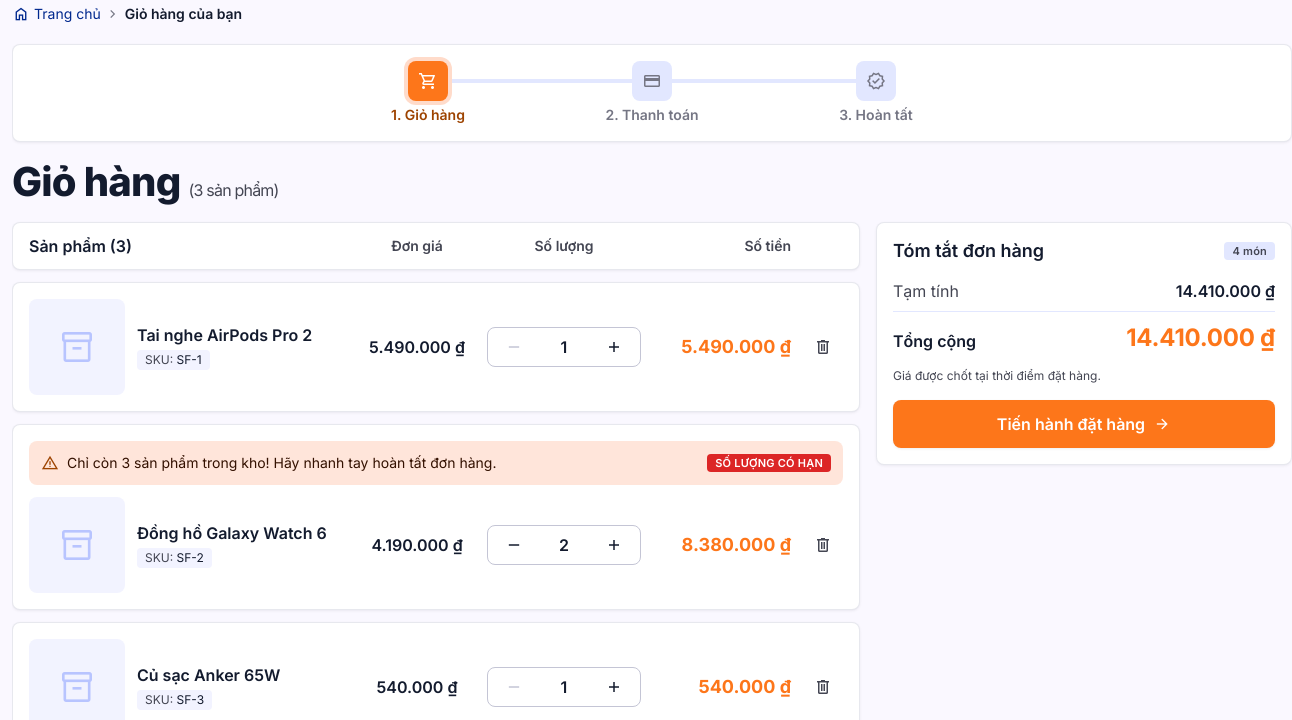
it: CartPage › nút + → PATCH số lượng mới, thành tiền và tổng cập nhật theo server
The width and height of the screenshot is (1292, 720).
Check: the link "Củ sạc Anker 65W" is shown, box [137, 665, 280, 685]
What coordinates should you click on to do the following:
click the button named "Tăng số lượng" in the row of "Củ sạc Anker 65W"
I would click on:
 (614, 687)
Its box is [592, 672, 636, 702].
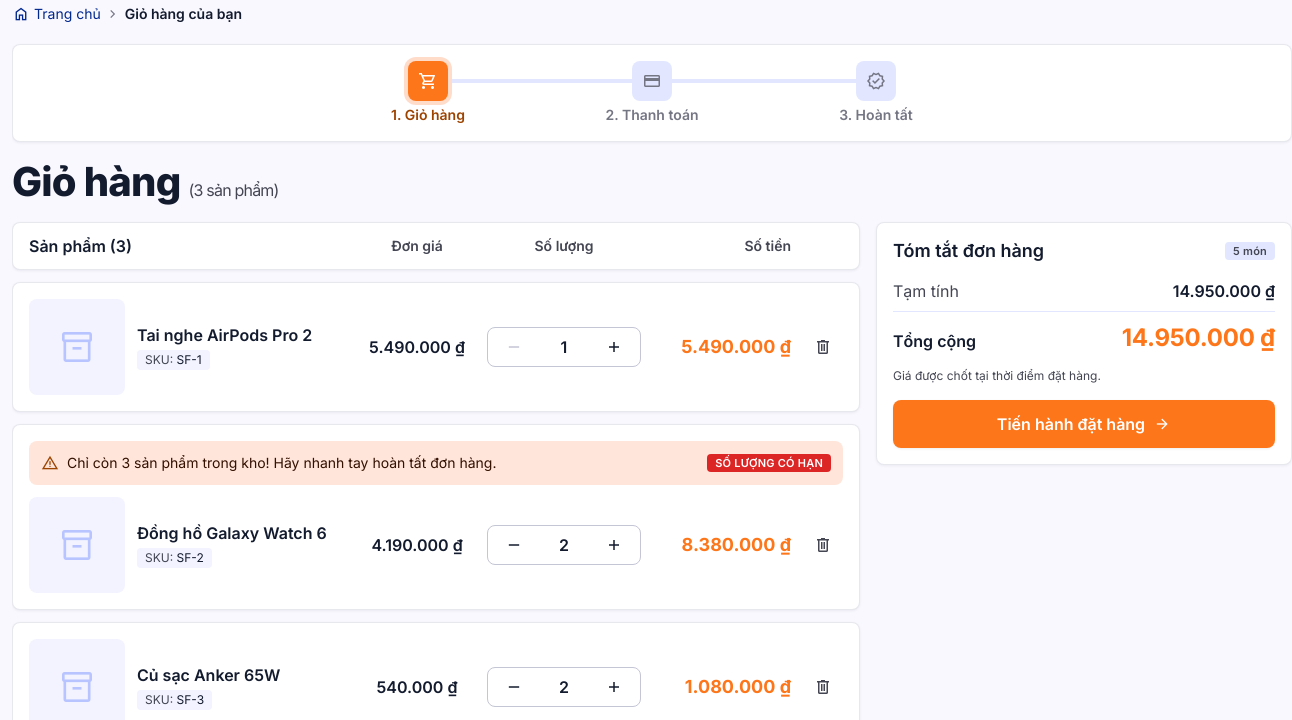
Check: the text with test id "line-total" shows "1.080.000", box [685, 676, 791, 697]
Check: the text with test id "order-total" shows "14.950.000", box [1122, 323, 1275, 352]
